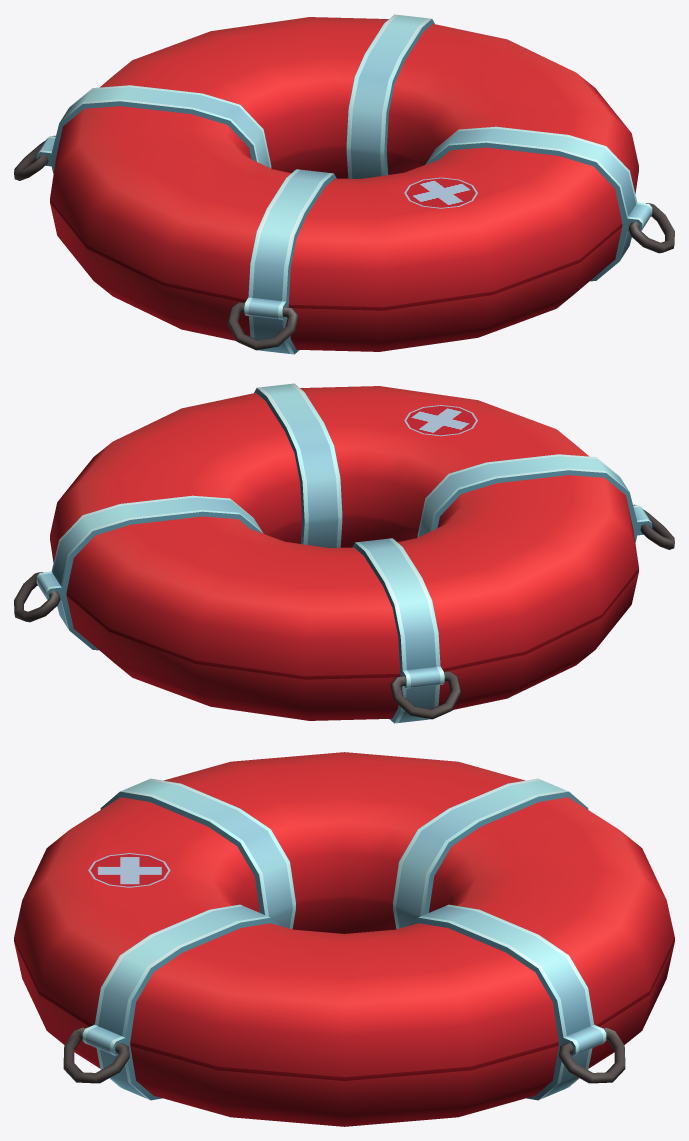
Rendered from AR_Animal_NinetailFox_Skin2fxmesh.FBX.
3 renders of one model, top to bottom at view 1: azimuth 30°, elevation 25°; view 2: azimuth 150°, elevation 25°; view 3: azimuth 270°, elevation 25°, orthographic. The views are drawn at different scales.
Visible parts, largest first — view 1: AR_Animal_NinetailFox_Skin2fxmesh; view 2: AR_Animal_NinetailFox_Skin2fxmesh; view 3: AR_Animal_NinetailFox_Skin2fxmesh.
Part boxes in pixels (x1=…): AR_Animal_NinetailFox_Skin2fxmesh: x1=14, y1=14, x2=674, y2=354; AR_Animal_NinetailFox_Skin2fxmesh: x1=14, y1=383, x2=674, y2=723; AR_Animal_NinetailFox_Skin2fxmesh: x1=14, y1=752, x2=674, y2=1126.
Size of the model in its own units: 39.35 by 9.7 by 39.35.
